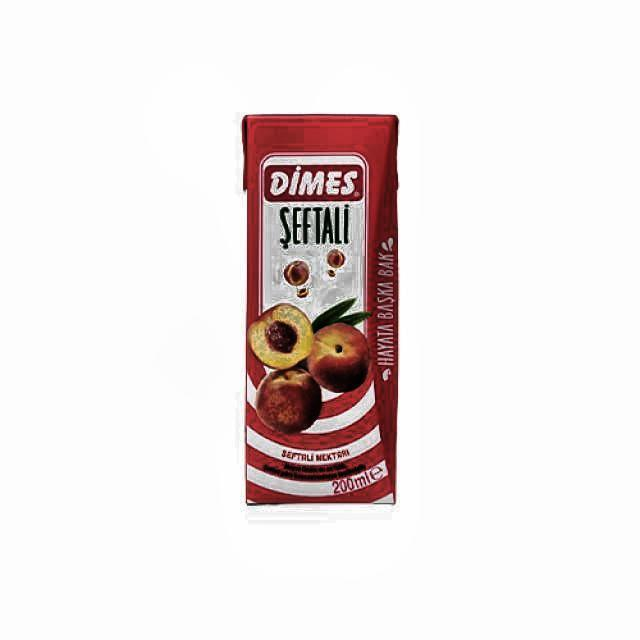cardboard: (241, 115, 400, 510)
